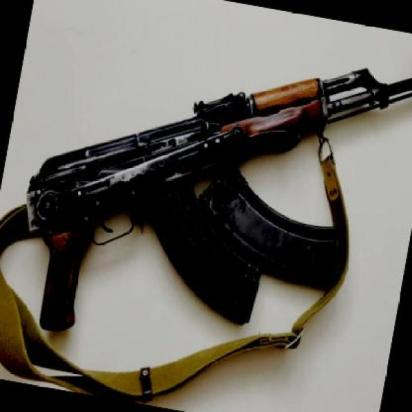Gun: (2, 0, 412, 395)
